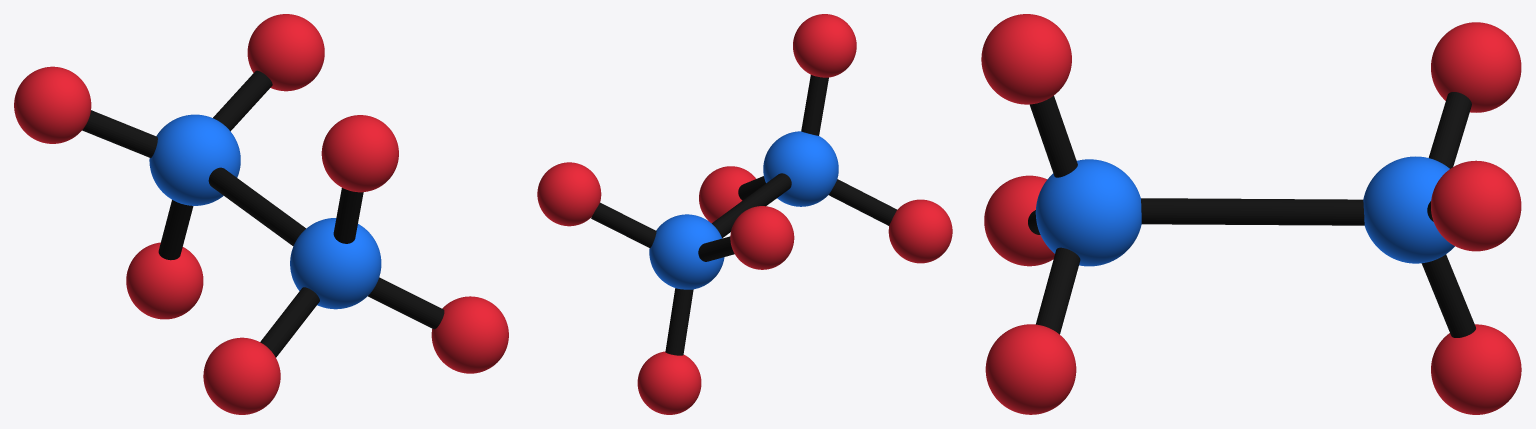
File: staggered.gltf
3 views of the same model, side by side, from view 1: azimuth 30°, elevation 25°; view 2: azimuth 150°, elevation 25°; view 3: azimuth 270°, elevation 25° (orthographic). The views are drawn at different scales.
Parts seen in each view (by area): view 1: Sphere.002, Sphere.007, Sphere.008, Sphere.006, Sphere.009, Sphere.010, Sphere.005, Sphere.004, Cylinder.001, Cylinder.007, Cylinder.004, Cylinder.005 (+3 smaller); view 2: Sphere.007, Sphere.002, Sphere.006, Sphere.008, Sphere.009, Sphere.005, Sphere.004, Sphere.010, Cylinder.001, Cylinder.005, Cylinder.002, Cylinder.003 (+2 smaller); view 3: Sphere.007, Sphere.002, Sphere.005, Sphere.009, Sphere.010, Sphere.004, Sphere.006, Cylinder.001, Sphere.008, Cylinder.002, Cylinder.007, Cylinder.006 (+1 smaller).
Boxes of the visible parts, left/top/right/bottom form: Sphere.002: left=149, top=114, right=240, bottom=205; Sphere.007: left=290, top=218, right=381, bottom=309; Sphere.008: left=203, top=337, right=280, bottom=414; Sphere.006: left=14, top=66, right=91, bottom=143; Sphere.009: left=321, top=115, right=398, bottom=192; Sphere.010: left=431, top=296, right=508, bottom=373; Sphere.005: left=247, top=14, right=324, bottom=91; Sphere.004: left=126, top=242, right=203, bottom=319; Cylinder.001: left=208, top=167, right=305, bottom=246; Cylinder.007: left=368, top=277, right=444, bottom=329; Cylinder.004: left=82, top=110, right=157, bottom=157; Cylinder.005: left=260, top=287, right=319, bottom=357; Sphere.007: left=763, top=131, right=838, bottom=206; Sphere.002: left=649, top=214, right=724, bottom=289; Sphere.006: left=730, top=206, right=794, bottom=269; Sphere.008: left=888, top=199, right=952, bottom=263; Sphere.009: left=793, top=14, right=856, bottom=77; Sphere.005: left=537, top=162, right=601, bottom=226; Sphere.004: left=637, top=351, right=701, bottom=414; Sphere.010: left=699, top=166, right=755, bottom=223; Cylinder.001: left=712, top=173, right=791, bottom=238; Cylinder.005: left=829, top=179, right=896, bottom=225; Cylinder.002: left=665, top=288, right=693, bottom=355; Cylinder.003: left=591, top=202, right=656, bottom=247; Sphere.007: left=1035, top=159, right=1141, bottom=266; Sphere.002: left=1363, top=156, right=1454, bottom=263; Sphere.005: left=1431, top=160, right=1521, bottom=251; Sphere.009: left=981, top=14, right=1071, bottom=104; Sphere.010: left=985, top=324, right=1076, bottom=414; Sphere.004: left=1431, top=324, right=1521, bottom=414; Sphere.006: left=1431, top=22, right=1521, bottom=112; Cylinder.001: left=1141, top=198, right=1364, bottom=225; Sphere.008: left=984, top=175, right=1054, bottom=266; Cylinder.002: left=1421, top=254, right=1475, bottom=337; Cylinder.007: left=1035, top=247, right=1080, bottom=334; Cylinder.006: left=1029, top=95, right=1077, bottom=177.
Size of the model in its own units: 7.62 by 8.13 by 10.08.
